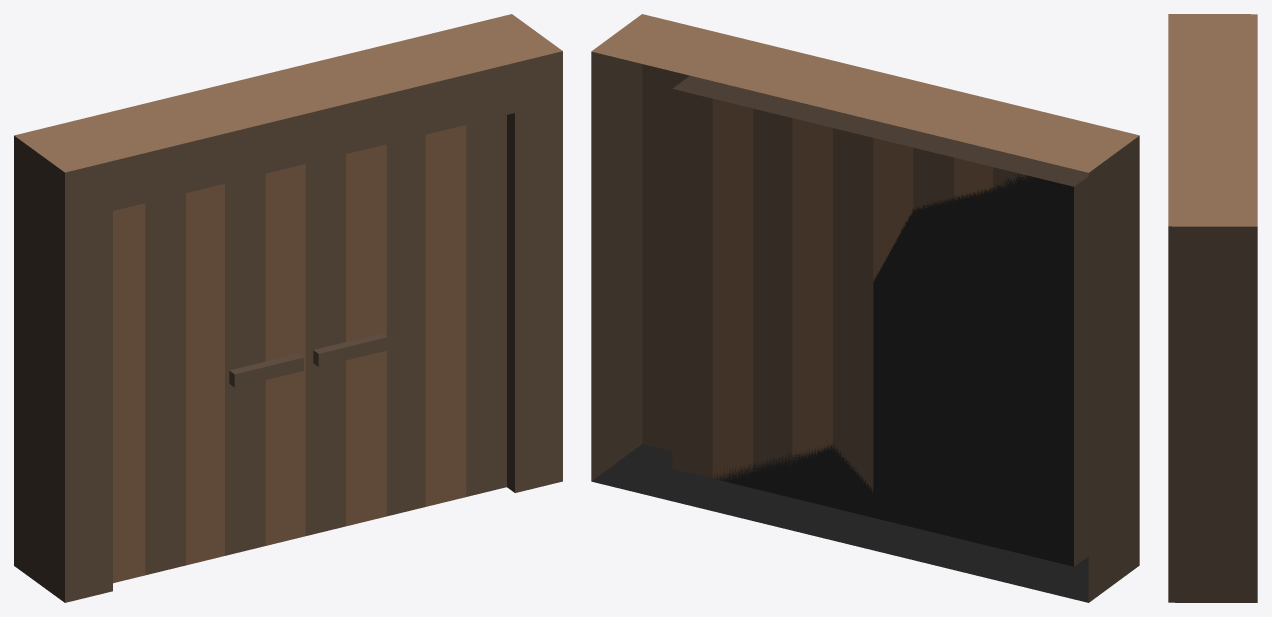
Rendered from TB_D_Bd_Wide_DoorSet_A.FBX.
3 views of the same model, side by side, from view 1: azimuth 30°, elevation 25°; view 2: azimuth 150°, elevation 25°; view 3: azimuth 270°, elevation 25° (orthographic). The views are drawn at different scales.
Visible parts, largest first — view 1: TB_D_Bd_Wide_DoorSet_A, TB_D_Bd_Wide_DoorR_A, TB_D_Bd_Wide_DoorL_A; view 2: TB_D_Bd_Wide_DoorSet_A, TB_D_Bd_Wide_DoorR_A, TB_D_Bd_Wide_DoorL_A; view 3: TB_D_Bd_Wide_DoorSet_A.
Boxes of the visible parts, left/top/right/bottom form: TB_D_Bd_Wide_DoorSet_A: left=14, top=14, right=562, bottom=602; TB_D_Bd_Wide_DoorR_A: left=305, top=115, right=506, bottom=535; TB_D_Bd_Wide_DoorL_A: left=113, top=164, right=305, bottom=583; TB_D_Bd_Wide_DoorSet_A: left=591, top=14, right=1139, bottom=602; TB_D_Bd_Wide_DoorR_A: left=672, top=89, right=873, bottom=493; TB_D_Bd_Wide_DoorL_A: left=873, top=138, right=1030, bottom=281; TB_D_Bd_Wide_DoorSet_A: left=1168, top=14, right=1257, bottom=602.
Bounding box in the file's own units: 2.28 × 1.88 × 0.4047.
